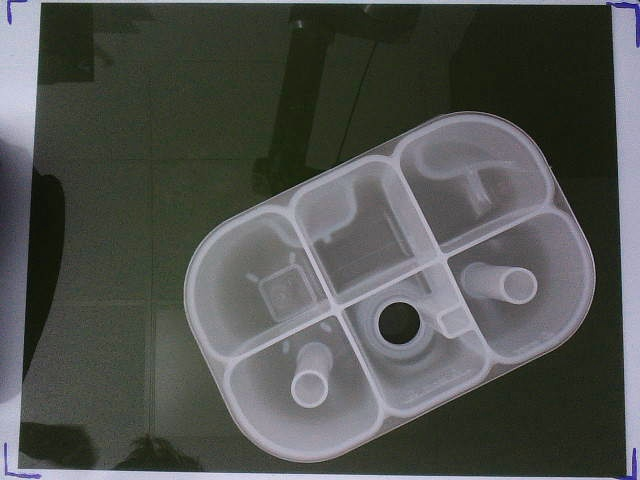reservoir_transparent_Under: (182, 111, 596, 463)
